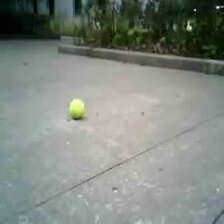tennis: (68, 98, 84, 119)
